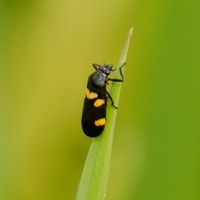insect: (82, 64, 122, 136)
